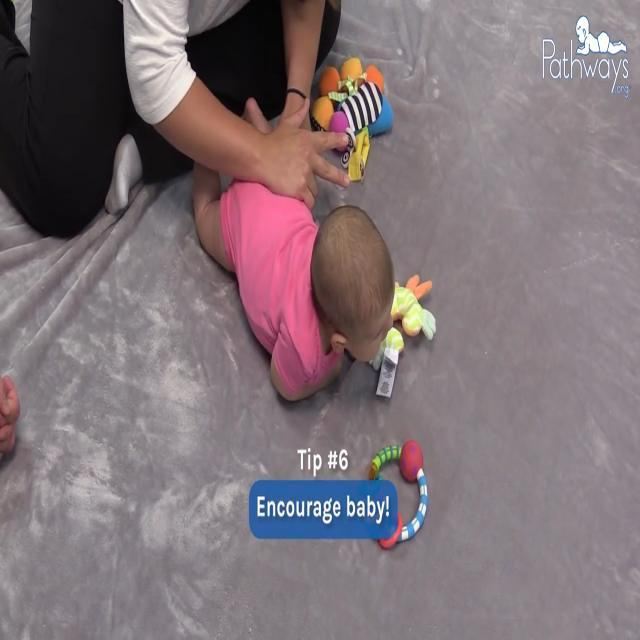baby: (188, 90, 403, 420)
